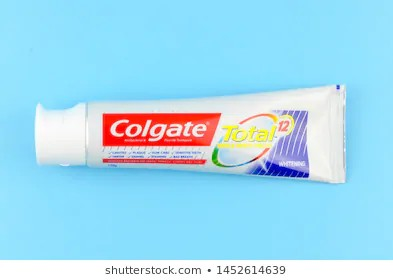colgate-total-150gm: (30, 87, 352, 186)
